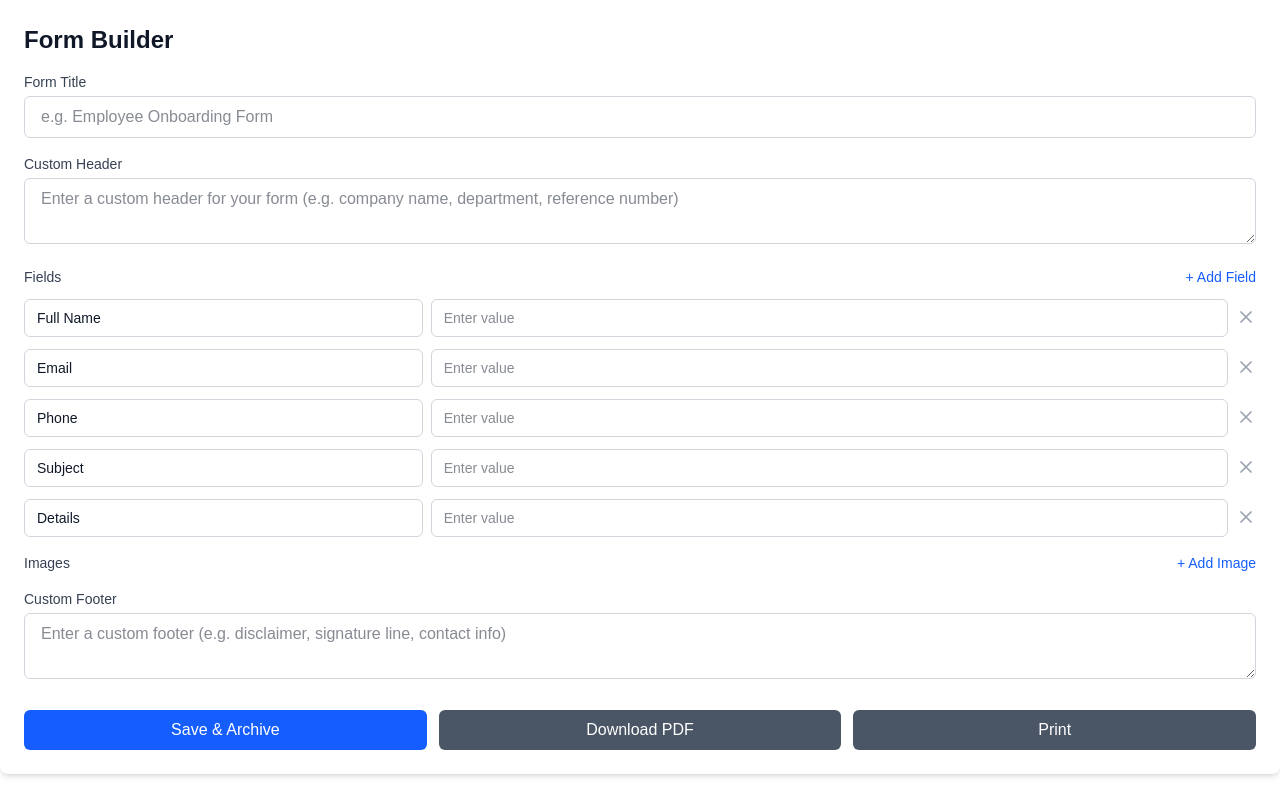
it: FormBuilder › clears field error when typing in value
The image size is (1280, 800).
Step 1. Type "Test" into the field with placeholder "e.g. Employee Onboarding Form" → (640, 117), box left=24, top=96, right=1256, bottom=138
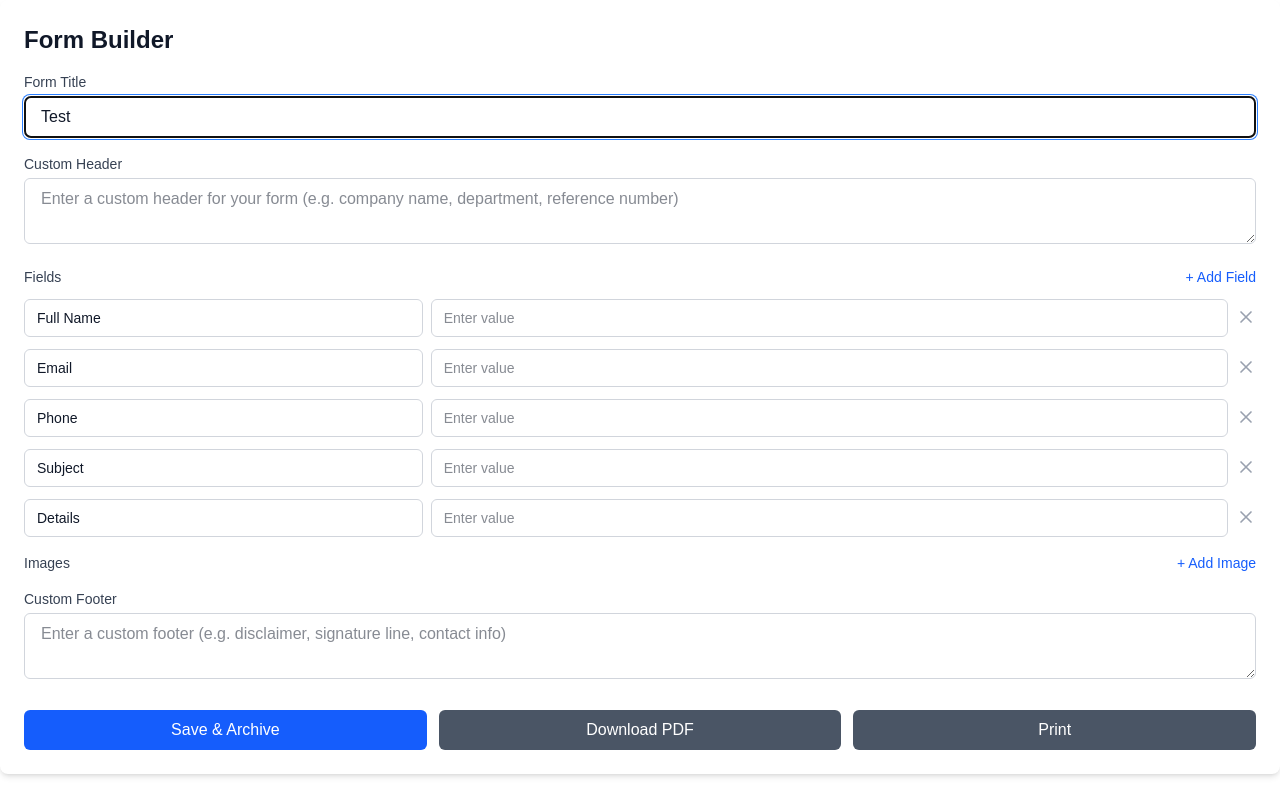
Step 2. Click the button "Save & Archive" → (225, 730), box left=24, top=710, right=427, bottom=750
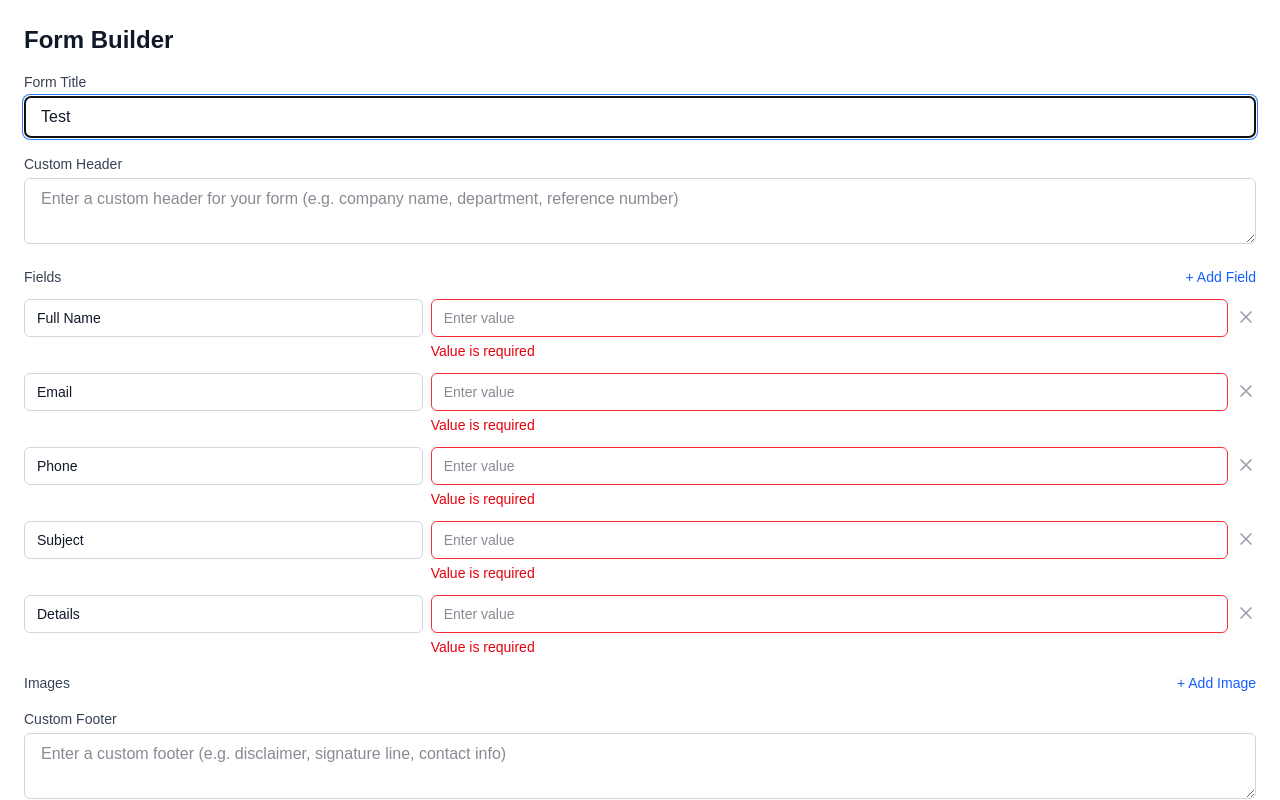
Check: the 1st text "Value is required" is shown, box left=431, top=343, right=535, bottom=359
Step 3. Type "John" into the field named "Field 1 value" → (829, 318), box left=431, top=299, right=1228, bottom=337
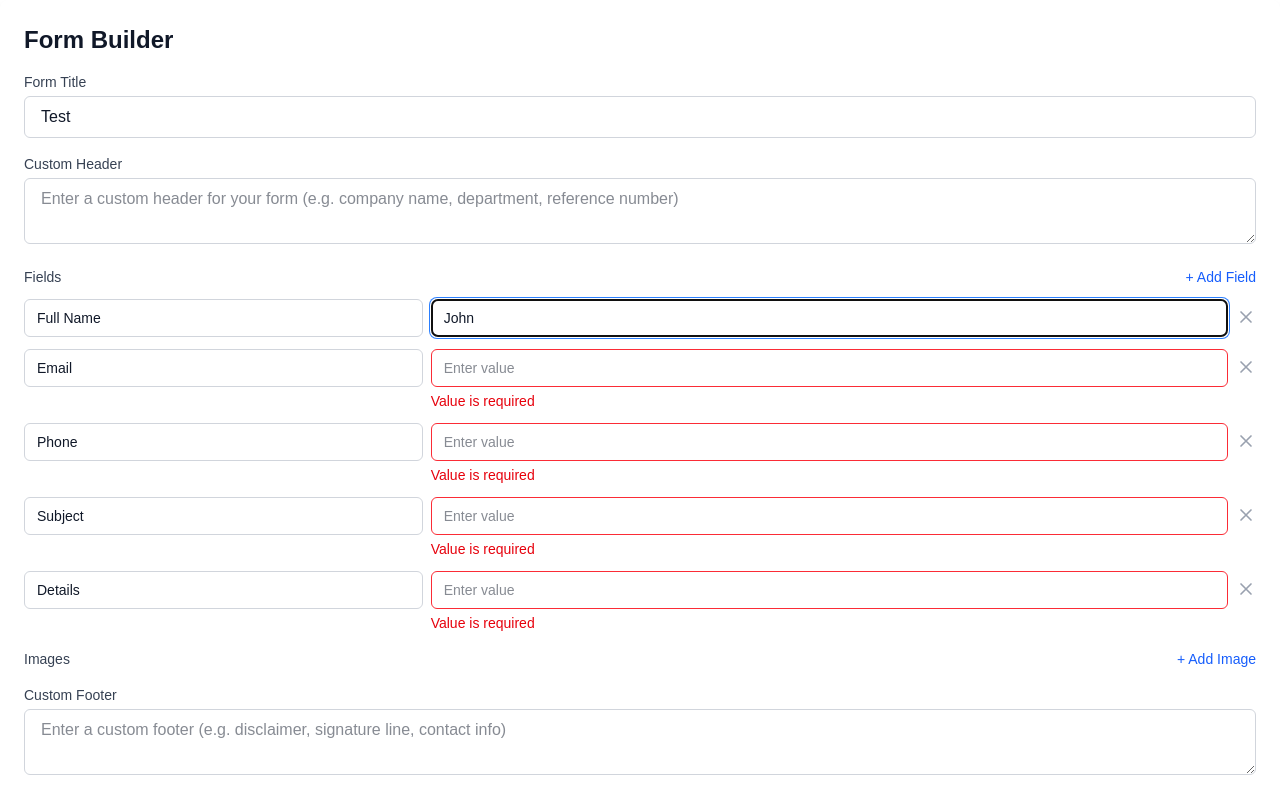
Check: the text "Value is required" is shown 4 times, box left=431, top=393, right=535, bottom=409; left=431, top=467, right=535, bottom=483; left=431, top=541, right=535, bottom=557; left=431, top=615, right=535, bottom=631
